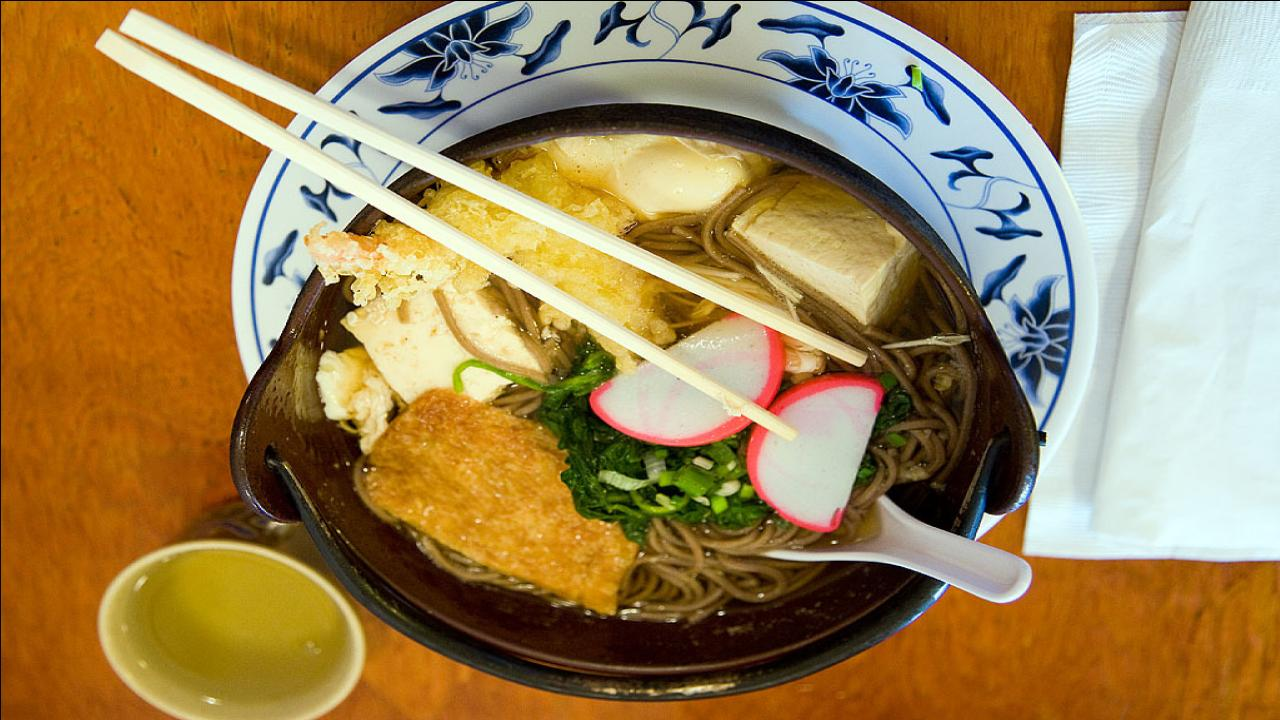chopstick: (94, 5, 866, 440)
